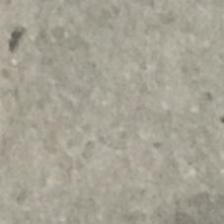Non_Crack: (20, 14, 224, 224)
